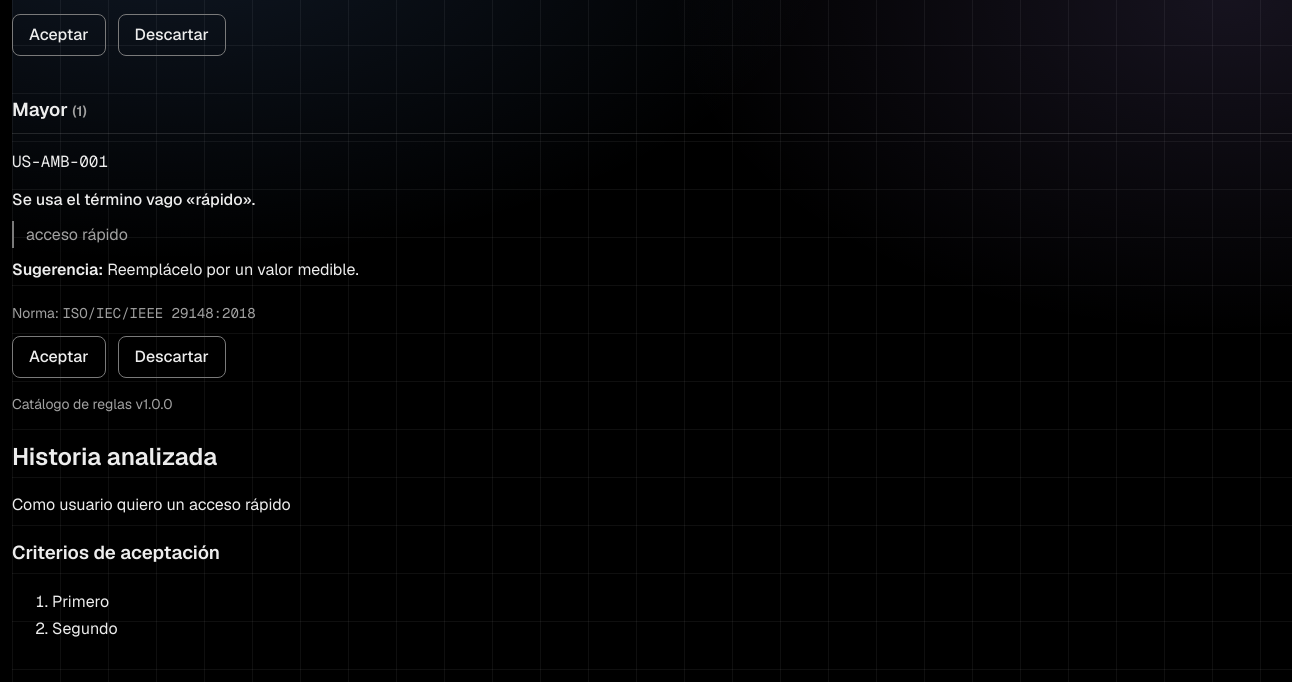
Test: AnalysisPage - decisiones › aceptar y restablecer un hallazgo
This screenshot has width=1292, height=682.
(page scrolled)
Click the button "Aceptar" below "US-AMB-001".
click(59, 357)  # box [12,336,106,378]
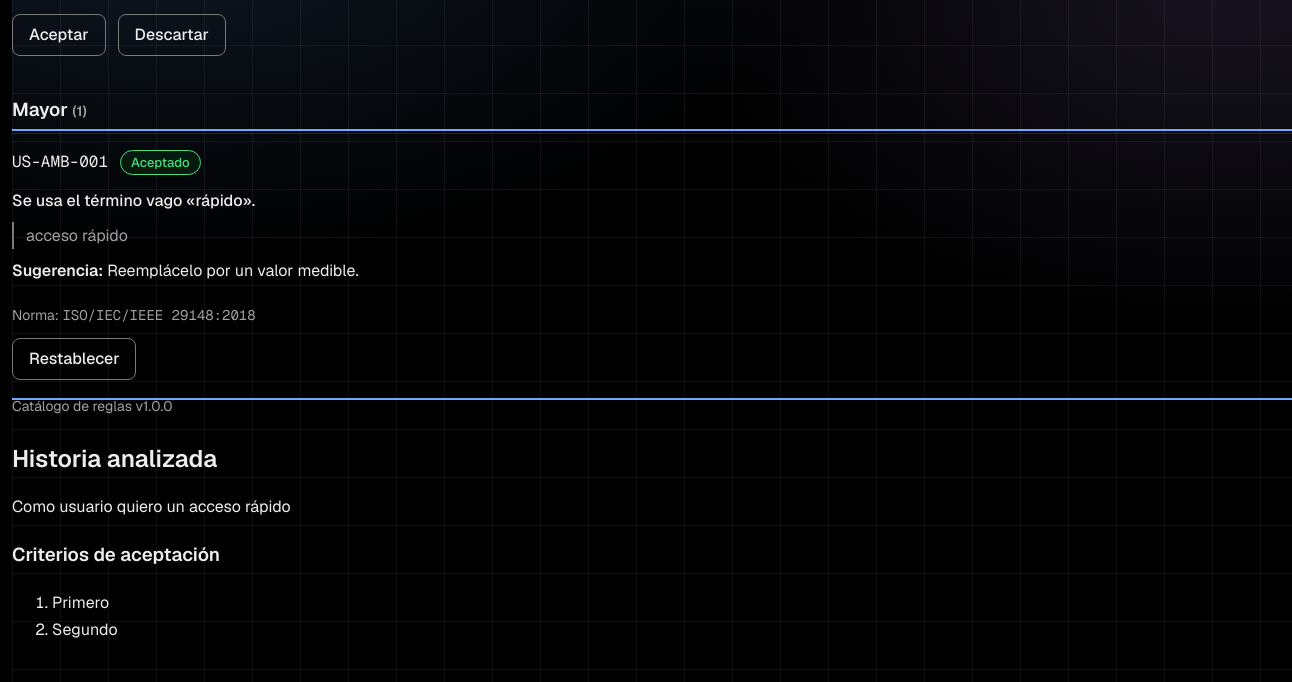
expect the text "Aceptado" is shown: met, box [120,150,201,175]
